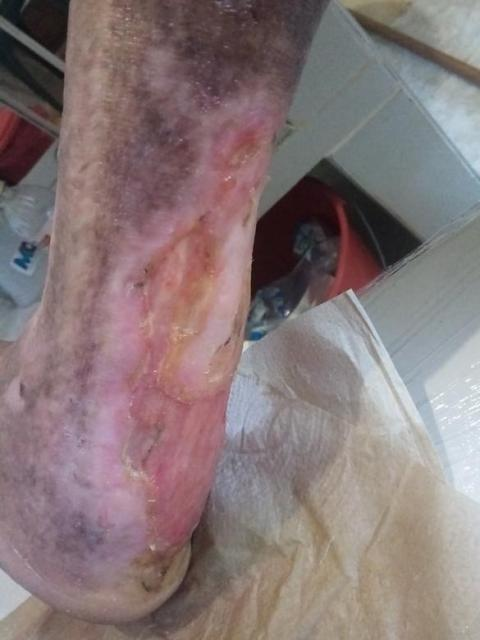wound: (121, 113, 286, 587)
